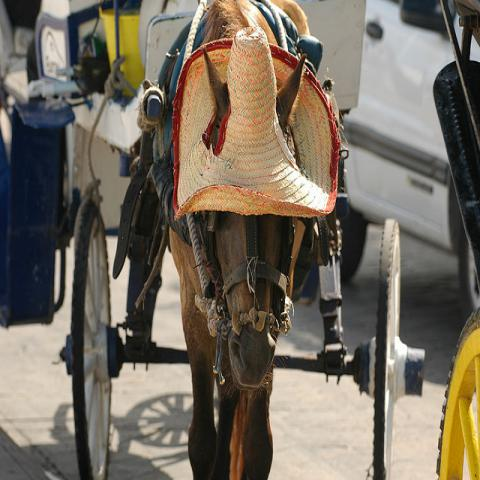car: (342, 0, 480, 324)
